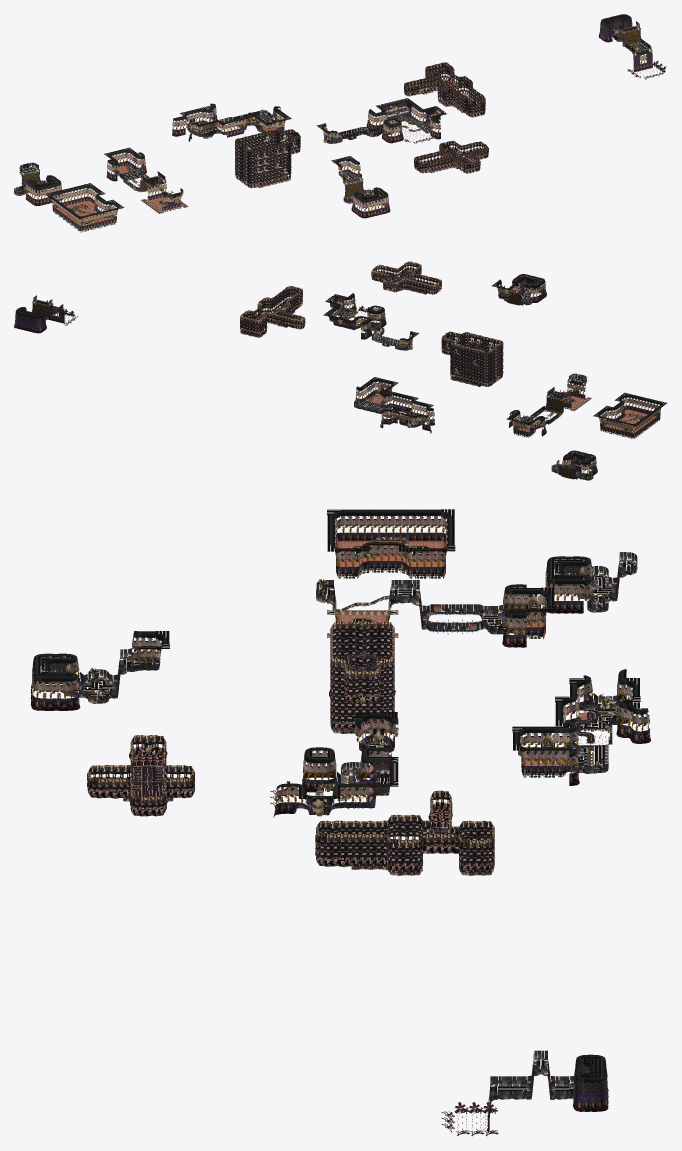
The picture shows the model from 3 angles, top to bottom: view 1: azimuth 30°, elevation 25°; view 2: azimuth 150°, elevation 25°; view 3: azimuth 270°, elevation 25°; orthographic projection. The views are drawn at different scales.
Size of the model in its own units: 380 by 41.69 by 174.
